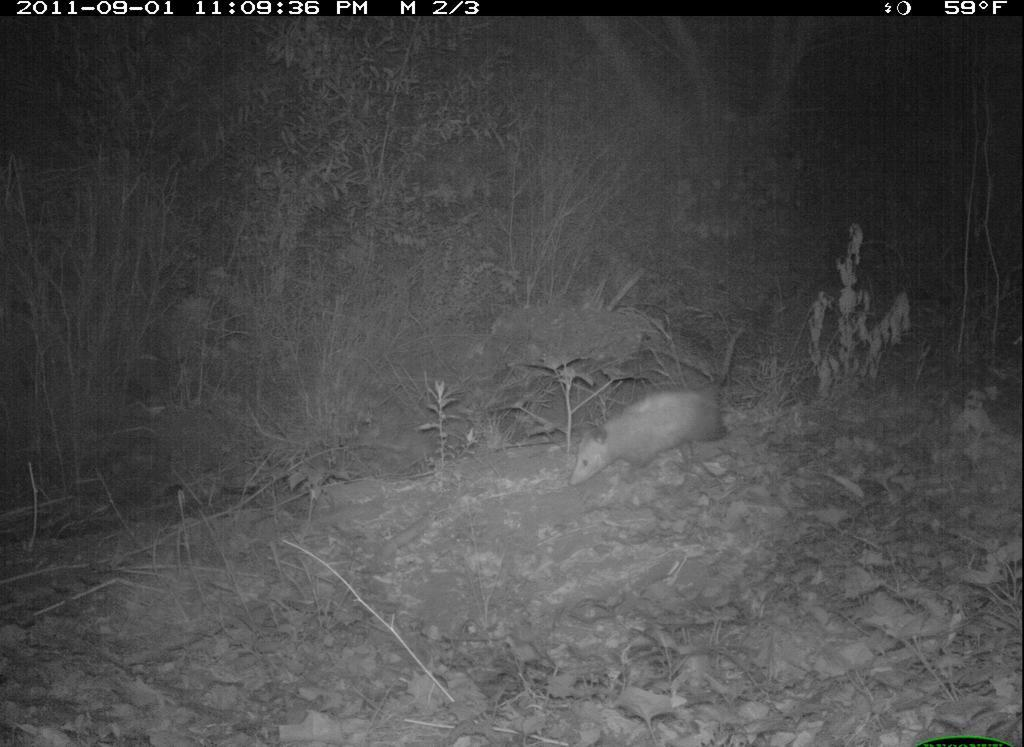opossum: (561, 328, 757, 489)
